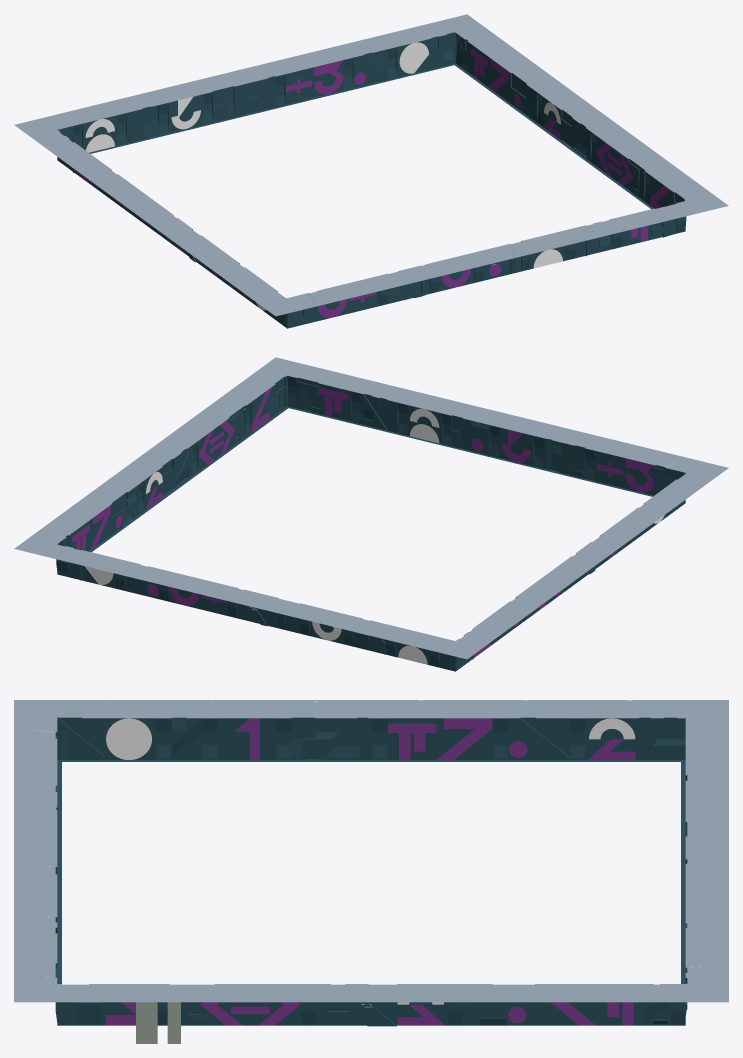
File: preti_light_cycle_arena.glb
The picture shows the model from 3 angles, top to bottom: view 1: azimuth 30°, elevation 25°; view 2: azimuth 150°, elevation 25°; view 3: azimuth 270°, elevation 25°; orthographic projection. The views are drawn at different scales.
Visible parts, largest first — view 1: Mesh148 Group2 Model, Mesh150 Group2 Model; view 2: Mesh148 Group2 Model, Mesh150 Group2 Model; view 3: Mesh148 Group2 Model, Mesh150 Group2 Model.
Boxes of the visible parts, x1,y1,x2,y2 form: Mesh148 Group2 Model: (14,14,728,328); Mesh150 Group2 Model: (50,151,278,316); Mesh148 Group2 Model: (14,357,725,671); Mesh150 Group2 Model: (504,467,728,632); Mesh148 Group2 Model: (14,700,728,1043); Mesh150 Group2 Model: (14,700,626,701).
Size of the model in its own units: 931 by 60 by 931.
